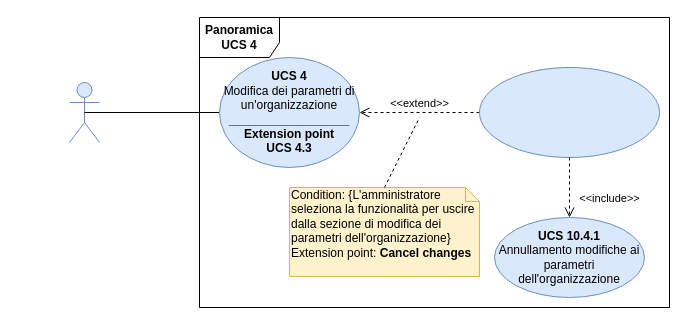
Some shapes in this 687 by 325 pixel diagram are drawn without their labels. Here are the shapes that lost their labels. From the top down, the centre of each, then its label:
At point (84, 112): "Amministratore gestore".
At point (569, 112): "UCS 4.3 Annullamento modifiche ai parametri dell'organizzazione".
